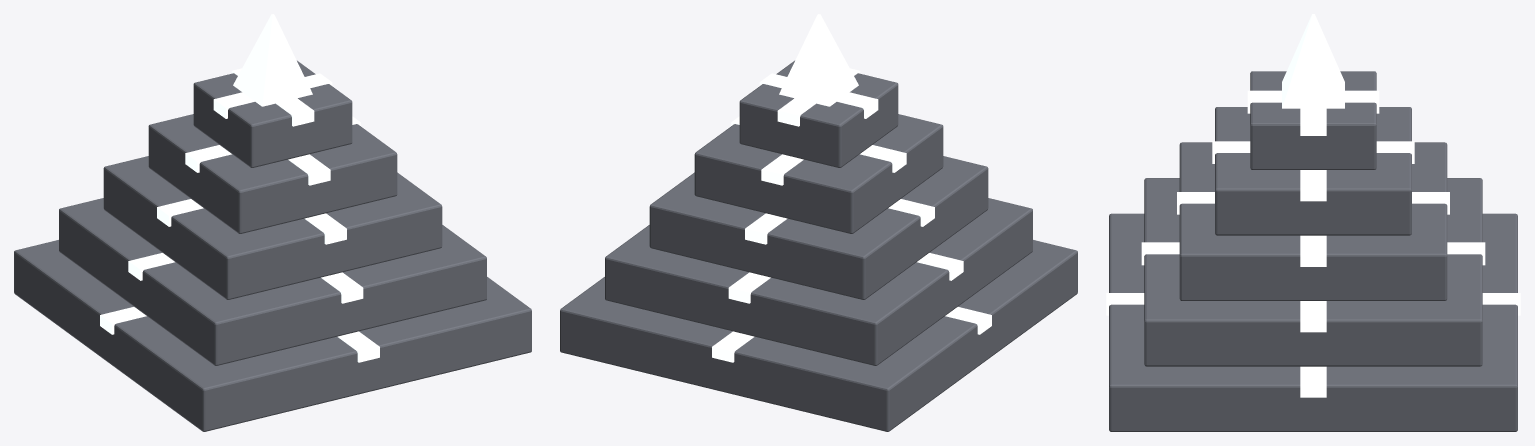
File: asama-purifying-mountain.glb
3 renders of one model, left to right at view 1: azimuth 30°, elevation 25°; view 2: azimuth 150°, elevation 25°; view 3: azimuth 270°, elevation 25°, orthographic. The views are drawn at different scales.
Visible parts, largest first — view 1: asama-purifying-mountain_Opaque, asama-purifying-mountain_Emissive; view 2: asama-purifying-mountain_Opaque, asama-purifying-mountain_Emissive; view 3: asama-purifying-mountain_Opaque, asama-purifying-mountain_Emissive.
Boxes of the visible parts, x1,y1,x2,y2 form: asama-purifying-mountain_Opaque: (14, 60, 531, 431); asama-purifying-mountain_Emissive: (100, 14, 379, 362); asama-purifying-mountain_Opaque: (560, 60, 1077, 431); asama-purifying-mountain_Emissive: (712, 14, 991, 362); asama-purifying-mountain_Opaque: (1109, 71, 1517, 431); asama-purifying-mountain_Emissive: (1106, 14, 1520, 397).
Bounding box in the file's own units: 22.3 × 19.7 × 22.3.
